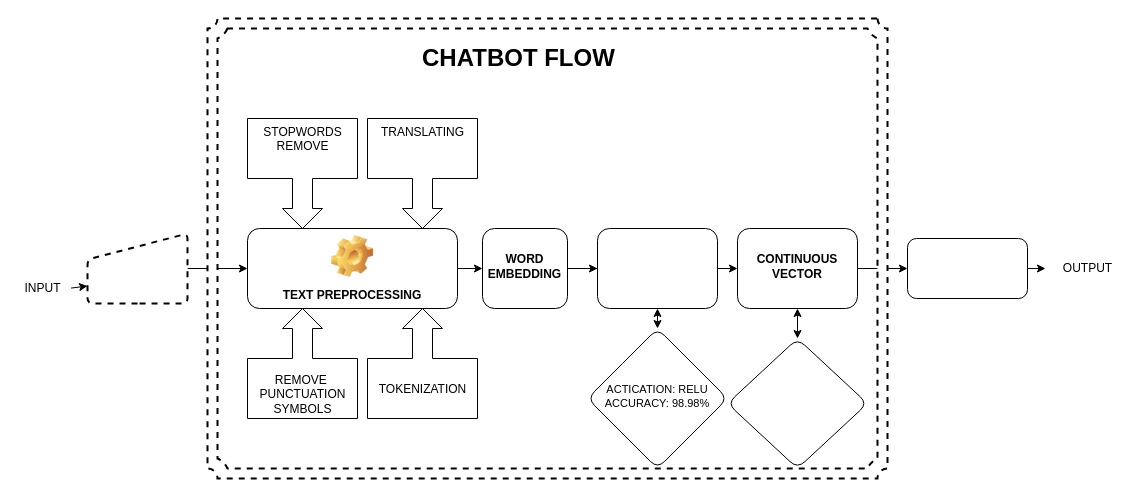
Image size: 1134x496. Some labels were removed from this diagram. The shapes that lost their labels are listed below. From the top down, each one's centre as x and y in pixels, then its label:
[137,268]: CLIENT QUESTION
[657,268]: CLASSIFICATION MODEL
[967,268]: ANSWER
[797,403]: SEARCHING BEST COSINE SIMILARITY
